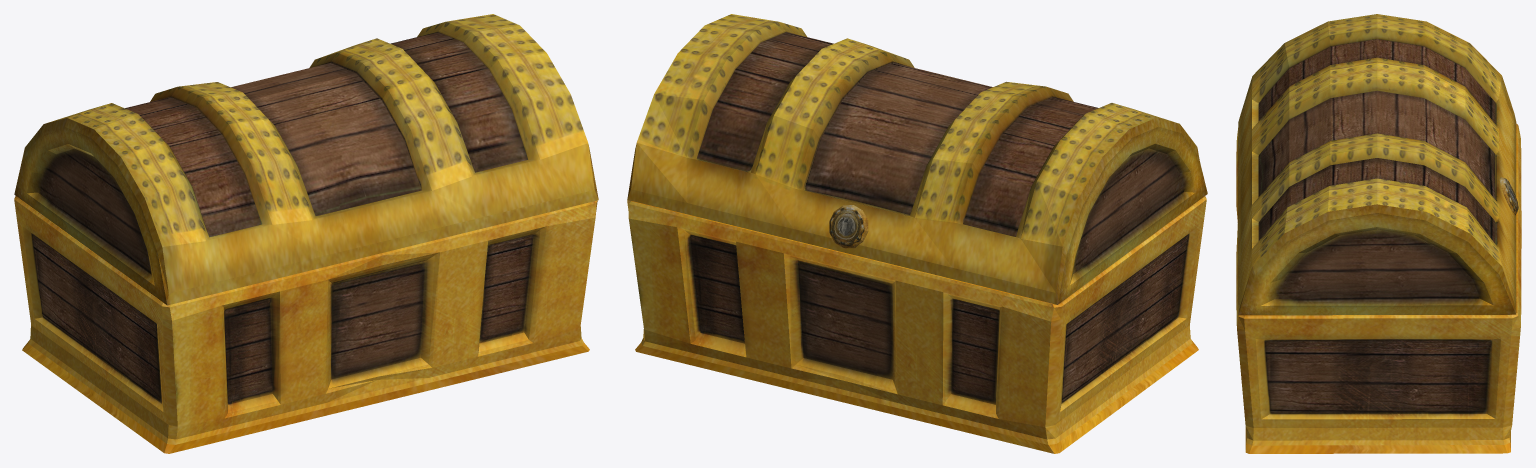
The model's file is chest01.FBX.
3 views of the same model, side by side, from view 1: azimuth 30°, elevation 25°; view 2: azimuth 150°, elevation 25°; view 3: azimuth 270°, elevation 25° (orthographic). The views are drawn at different scales.
Visible parts, largest first — view 1: chest002; view 2: chest002; view 3: chest002.
Part boxes in pixels (<box>): chest002: <box>14,14,598,453</box>; chest002: <box>627,14,1207,453</box>; chest002: <box>1236,14,1521,453</box>.
Bounding box in the file's own units: 110 × 66.71 × 67.7.
